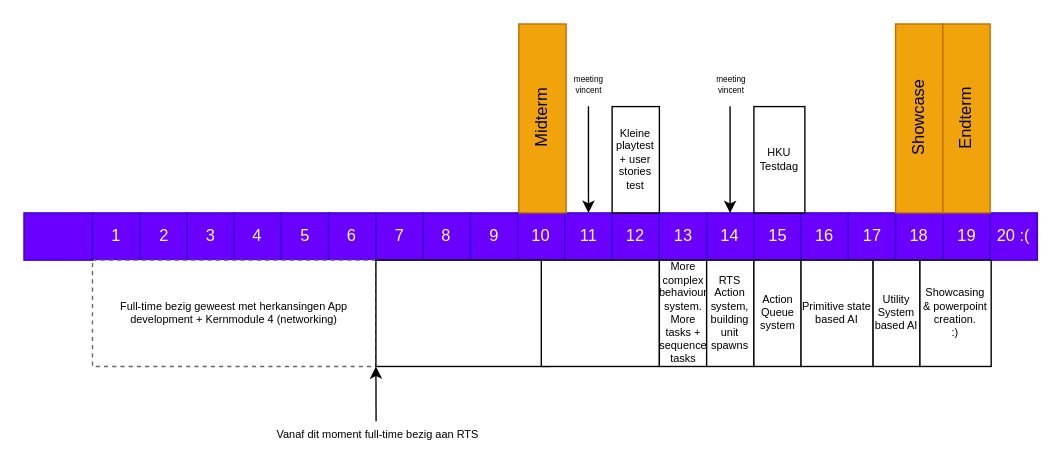
Some shapes in this 1062 by 473 pixel diagram are drawn without their labels. Here are the shapes that lost their labels. From the top down, the box of each, then its label:
(23, 212, 92, 260): Projectweek
(375, 259, 550, 366): Simple demo with units moving with NavMesh & Static buildings
(540, 259, 659, 366): Behaviour system for each unit, units have UnitTasks & movement
